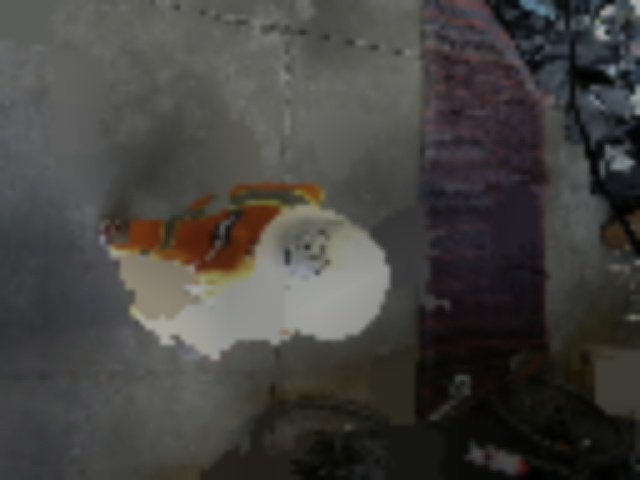eight: (284, 228, 330, 277)
